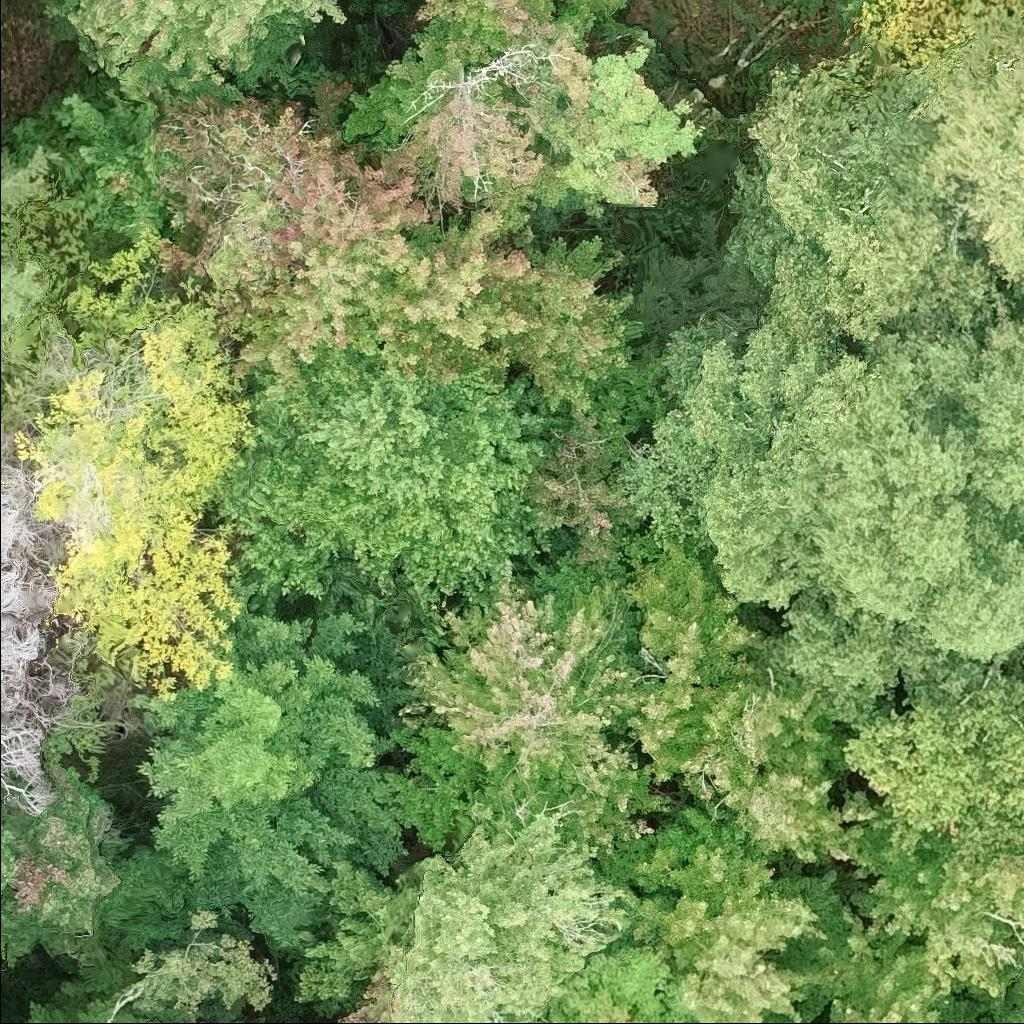crown: (614, 310, 1023, 722), (151, 77, 542, 400), (12, 225, 267, 701), (703, 0, 1023, 352), (205, 346, 571, 619), (132, 605, 428, 896), (393, 558, 675, 859), (379, 798, 631, 1023), (341, 20, 570, 238), (516, 0, 705, 219), (0, 428, 102, 814), (618, 538, 777, 785), (480, 233, 667, 438), (623, 850, 843, 1023), (43, 0, 345, 116), (843, 672, 1023, 860), (0, 754, 139, 948), (12, 77, 176, 240), (850, 843, 1023, 997), (806, 907, 1023, 1023), (676, 669, 855, 805), (533, 406, 645, 577), (592, 799, 775, 895), (499, 937, 700, 1023), (717, 767, 881, 868), (0, 141, 52, 379), (412, 0, 570, 45), (980, 312, 1023, 368), (593, 0, 627, 15)
